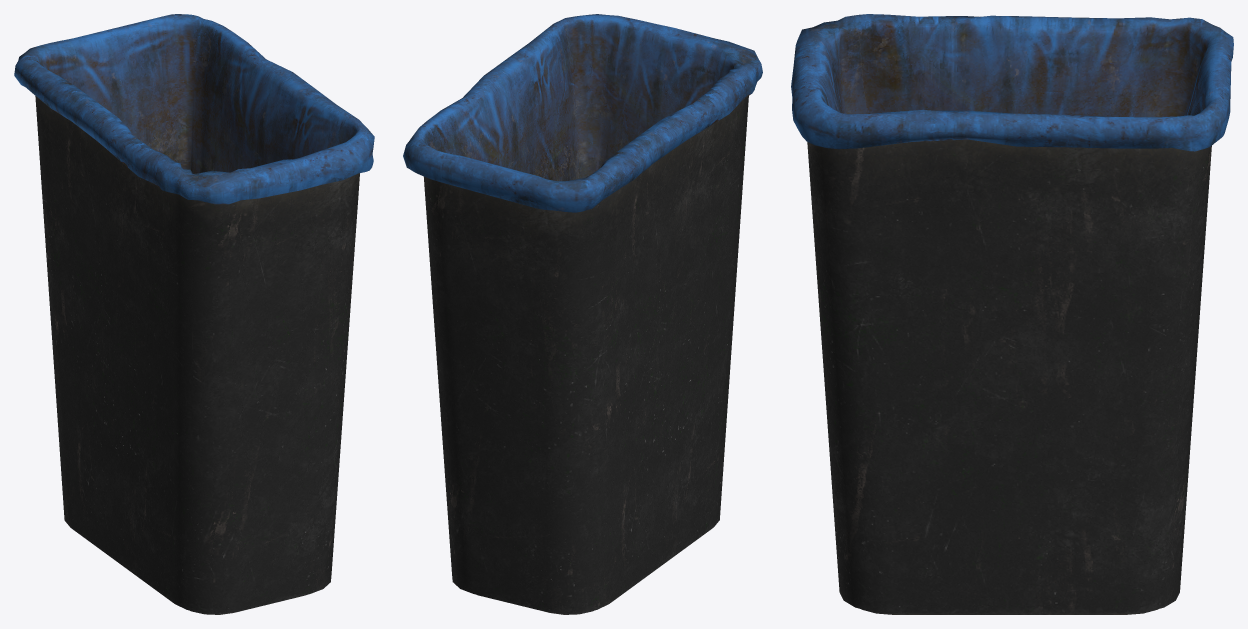
The model's file is TrashBin2.fbx.
3 views of the same model, side by side, from view 1: azimuth 30°, elevation 25°; view 2: azimuth 150°, elevation 25°; view 3: azimuth 270°, elevation 25° (orthographic). The views are drawn at different scales.
Visible parts, largest first — view 1: TrashBag_low; view 2: TrashBag_low; view 3: TrashBag_low.
Part boxes in pixels (x1,y1,x2,y2): TrashBag_low: [14, 14, 374, 614]; TrashBag_low: [403, 14, 762, 614]; TrashBag_low: [791, 14, 1233, 614].
Bounding box in the file's own units: 49.33 × 105 × 81.51.
Materials: 1 (1 with a texture image).
